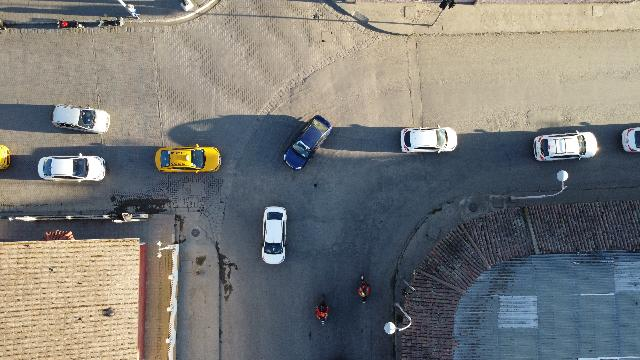Vehiculo: (283, 115, 331, 170), (534, 130, 598, 162), (38, 154, 106, 182), (156, 145, 220, 173), (52, 104, 110, 134), (261, 206, 287, 264), (401, 126, 457, 152), (622, 128, 640, 152), (0, 145, 10, 169)
